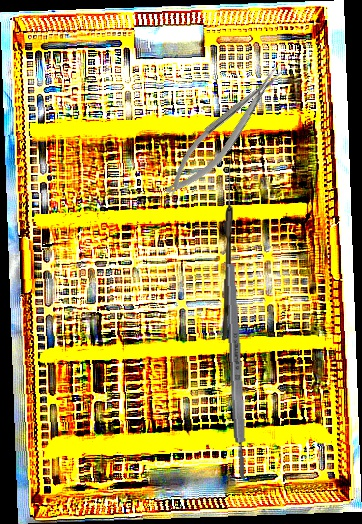Needle Holder: (154, 61, 295, 205)
Scalpel Handle: (224, 263, 249, 480)
Surgical Spoon: (222, 159, 234, 341)
